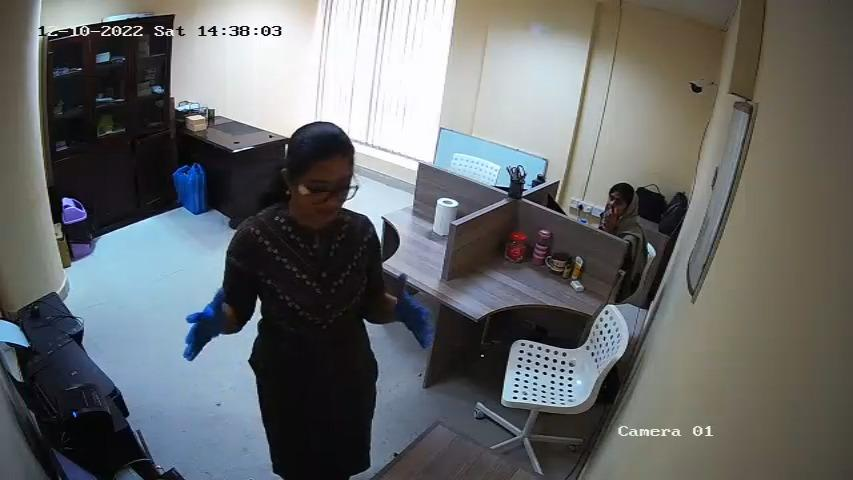gloves: (174, 292, 231, 365), (391, 269, 435, 355)
